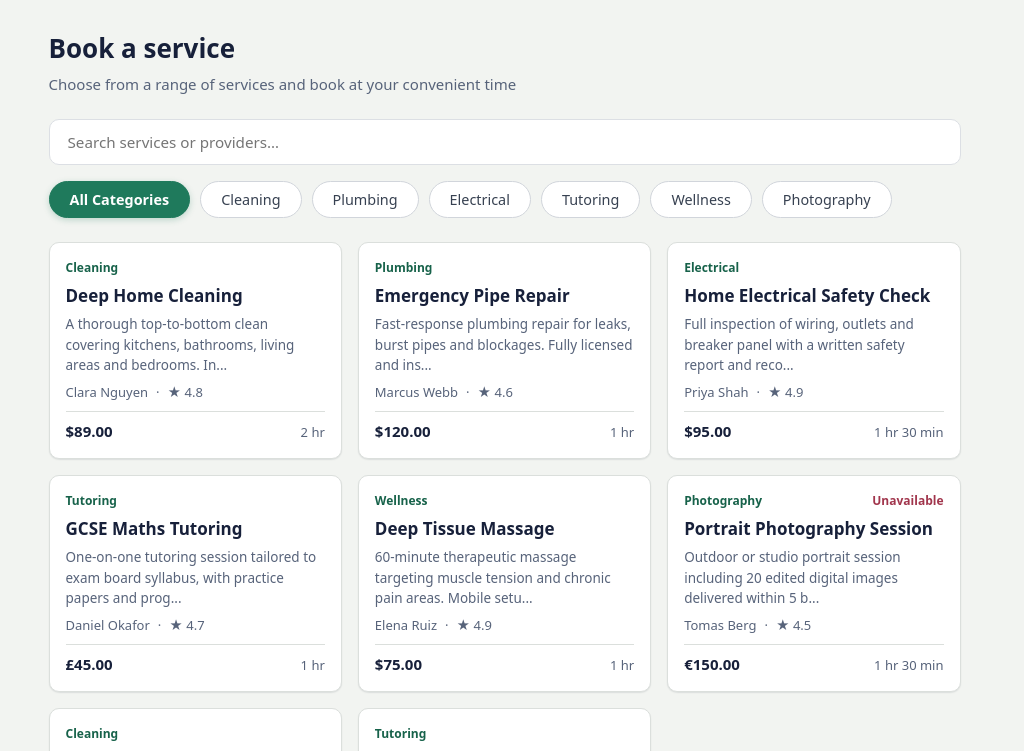
Test: ServiceListPage › shows an empty state when the search has no matches
Check: the 1st link with test id "service-card" is shown, box [48,242,342,459]
Type "zzz-no-such-service-zzz" into the field labelled "Search services or providers…" at {"x": 504, "y": 142}, box [48,119,960,165]
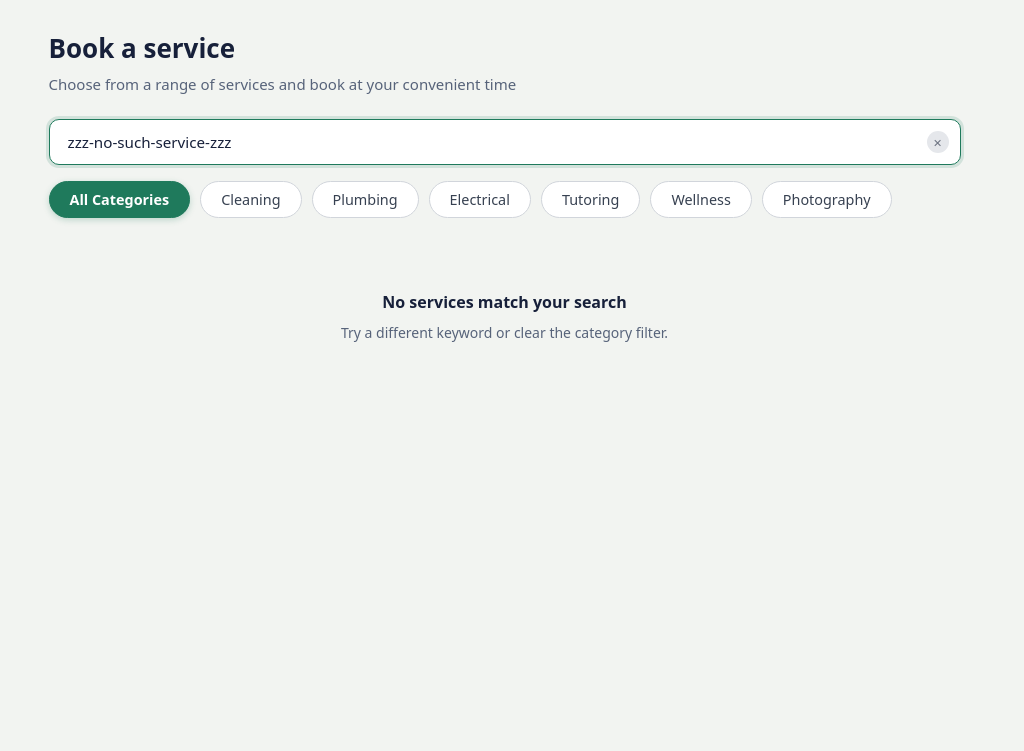
Check: the text "No services match your search" is shown, box [382,290,627,314]
Check: the link with test id "service-card" is gone
